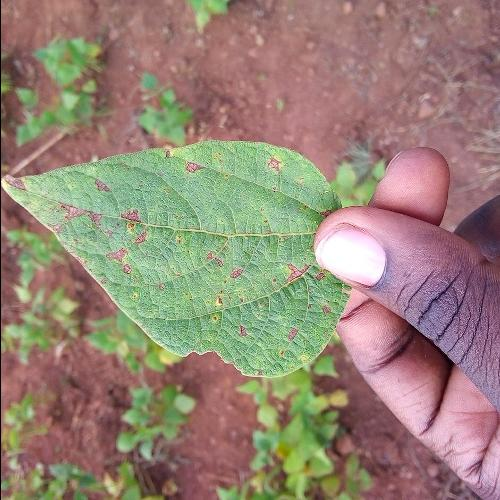hawar: (54, 175, 158, 293), (201, 233, 252, 331), (274, 246, 311, 300), (265, 318, 302, 357), (263, 155, 292, 190), (181, 155, 210, 179)
